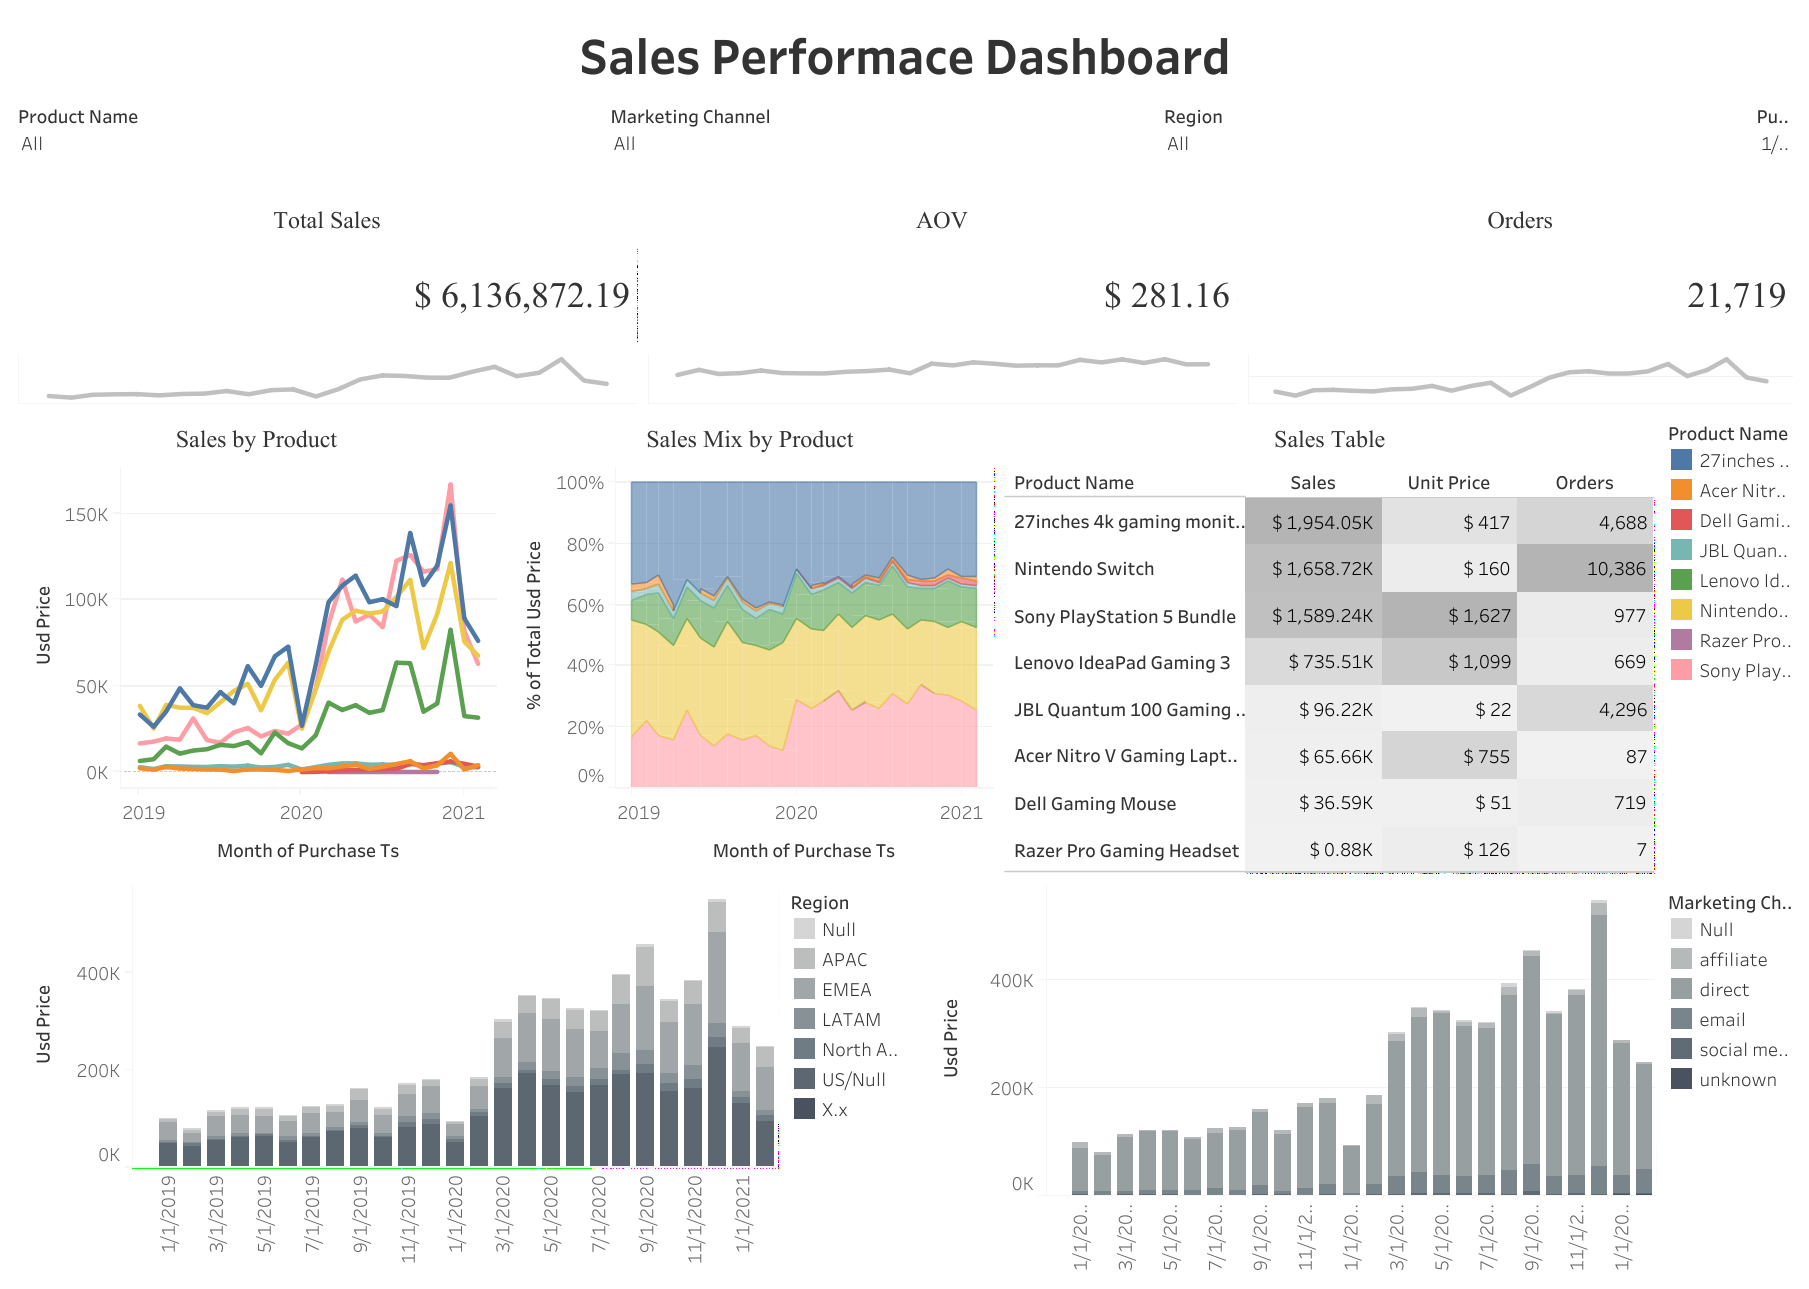

This screenshot's page, from the dashboard's own definition file:
{"tool":"tableau","page":{"name":"Dashboard 1","canvas":[1000,1000],"units":"permille","ordinal":0},"visuals":[{"type":"title","box":[4.9,8.8,990.3,60.4]},{"type":"filter","title":"Sales by Product","param":"[federated.0tkrvp20z5t2qp1be40k71cxasui].[none:PRODUCT_NAME:nk]","box":[4.9,69.2,280.9,70.3]},{"type":"filter","title":"Sales by Product","param":"[federated.0tkrvp20z5t2qp1be40k71cxasui].[none:MARKETING_CHANNEL:nk]","box":[285.8,69.2,223.9,70.3]},{"type":"filter","title":"Sales by Product","param":"[federated.0tkrvp20z5t2qp1be40k71cxasui].[none:REGION:nk]","box":[509.7,69.2,254.8,70.3]},{"type":"filter","title":"Sales by Product","param":"[federated.0tkrvp20z5t2qp1be40k71cxasui].[none:PURCHASE_TS:qk]","box":[764.5,69.2,230.6,70.3]},{"type":"worksheet","title":"Total Sales","mark":"Automatic","box":[4.9,139.6,349,124.5]},{"type":"worksheet","title":"AOV","mark":"Automatic","box":[353.9,139.6,332.7,124.5]},{"type":"worksheet","title":"Orders","mark":"Automatic","box":[686.6,139.6,308.6,124.5]},{"type":"worksheet","title":"Sales line","mark":"Automatic","rows":["USD_PRICE"],"cols":["PURCHASE_TS"],"box":[4.9,264.1,349,47.9]},{"type":"worksheet","title":"AOV line","mark":"Automatic","rows":["USD_PRICE"],"cols":["PURCHASE_TS"],"box":[353.9,264.1,332.7,47.9]},{"type":"worksheet","title":"Order line","mark":"Automatic","rows":["ORDER_ID"],"cols":["PURCHASE_TS"],"box":[686.6,264.1,308.6,47.9]},{"type":"worksheet","title":"Sales by Product","mark":"Automatic","rows":["USD_PRICE"],"cols":["PURCHASE_TS"],"box":[4.9,312,321.5,369.2]},{"type":"worksheet","title":"Sales Mix by Product","mark":"Area","cols":["PURCHASE_TS"],"box":[326.3,312,324.5,369.2]},{"type":"worksheet","title":"Sales Table","mark":"Automatic","rows":["PRODUCT_NAME"],"box":[650.8,312,267.6,369.2]},{"type":"legend","title":"Sales by Product","param":"[federated.0tkrvp20z5t2qp1be40k71cxasui].[none:PRODUCT_NAME:nk]","box":[918.4,312,76.7,257.1]},{"type":"worksheet","title":"Sales by Region","mark":"Bar","rows":["USD_PRICE"],"cols":["PURCHASE_TS"],"box":[4.9,681.2,427.1,310]},{"type":"legend","title":"Sales by Region","param":"[federated.0tkrvp20z5t2qp1be40k71cxasui].[none:REGION:nk]","box":[432,681.2,75.9,310]},{"type":"worksheet","title":"Sales by  Market","mark":"Bar","rows":["USD_PRICE"],"cols":["PURCHASE_TS"],"box":[507.8,681.2,410.8,310]},{"type":"legend","title":"Sales by  Market","param":"[federated.0tkrvp20z5t2qp1be40k71cxasui].[none:MARKETING_CHANNEL:nk]","box":[918.6,681.2,76.5,310]}]}

Visuals, with their boxes on the dashboard's canvas, which has no fixed pixel size, in thousandths of its width and height (x1, y1, x2, y2). These are canvas units, not pixel positions in the 1809x1289 screenshot, which may show the page scaled, cropped or inside an application window:
title: {"x1": 5, "y1": 9, "x2": 995, "y2": 69}
"Sales by Product" filter: {"x1": 5, "y1": 69, "x2": 286, "y2": 140}
"Sales by Product" filter: {"x1": 286, "y1": 69, "x2": 510, "y2": 140}
"Sales by Product" filter: {"x1": 510, "y1": 69, "x2": 764, "y2": 140}
"Sales by Product" filter: {"x1": 764, "y1": 69, "x2": 995, "y2": 140}
"Total Sales" worksheet: {"x1": 5, "y1": 140, "x2": 354, "y2": 264}
"AOV" worksheet: {"x1": 354, "y1": 140, "x2": 687, "y2": 264}
"Orders" worksheet: {"x1": 687, "y1": 140, "x2": 995, "y2": 264}
"Sales line" worksheet: {"x1": 5, "y1": 264, "x2": 354, "y2": 312}
"AOV line" worksheet: {"x1": 354, "y1": 264, "x2": 687, "y2": 312}
"Order line" worksheet: {"x1": 687, "y1": 264, "x2": 995, "y2": 312}
"Sales by Product" worksheet: {"x1": 5, "y1": 312, "x2": 326, "y2": 681}
"Sales Mix by Product" worksheet (Area marks): {"x1": 326, "y1": 312, "x2": 651, "y2": 681}
"Sales Table" worksheet: {"x1": 651, "y1": 312, "x2": 918, "y2": 681}
"Sales by Product" legend: {"x1": 918, "y1": 312, "x2": 995, "y2": 569}
"Sales by Region" worksheet (Bar marks): {"x1": 5, "y1": 681, "x2": 432, "y2": 991}
"Sales by Region" legend: {"x1": 432, "y1": 681, "x2": 508, "y2": 991}
"Sales by  Market" worksheet (Bar marks): {"x1": 508, "y1": 681, "x2": 919, "y2": 991}
"Sales by  Market" legend: {"x1": 919, "y1": 681, "x2": 995, "y2": 991}
